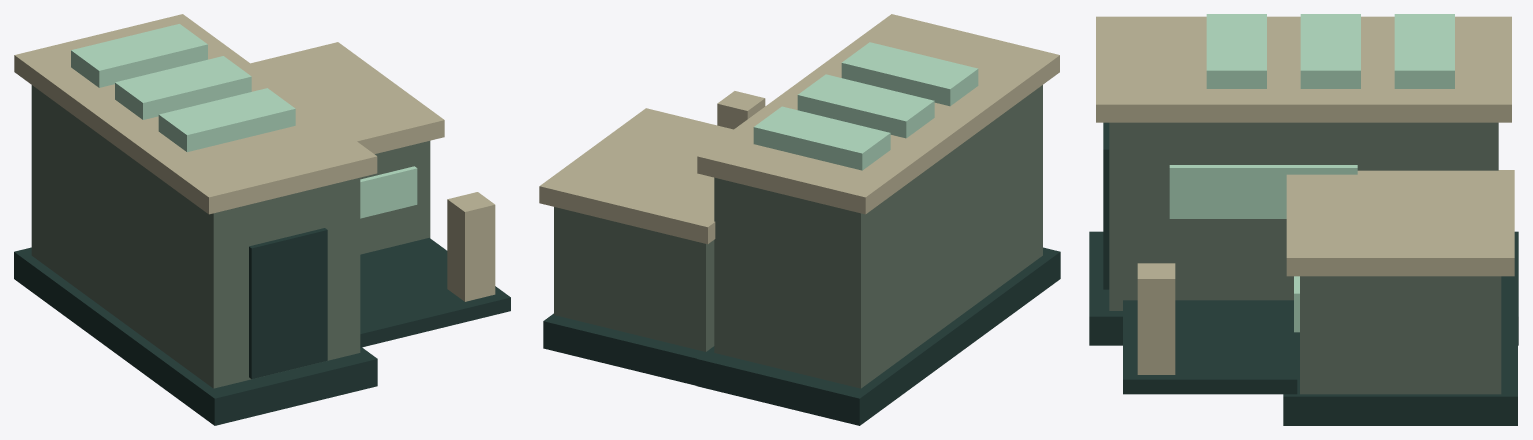
File: lab-intact.glb
The picture shows the model from 3 angles, left to right: view 1: azimuth 30°, elevation 25°; view 2: azimuth 150°, elevation 25°; view 3: azimuth 270°, elevation 25°; orthographic projection. The views are drawn at different scales.
Visible parts, largest first — view 1: lab-intact; view 2: lab-intact; view 3: lab-intact.
Part boxes in pixels (x1,y1,x2,y2): lab-intact: (14, 14, 510, 425); lab-intact: (539, 14, 1060, 425); lab-intact: (1089, 14, 1518, 425).
Size of the model in its own units: 2.99 by 2.15 by 3.2.
